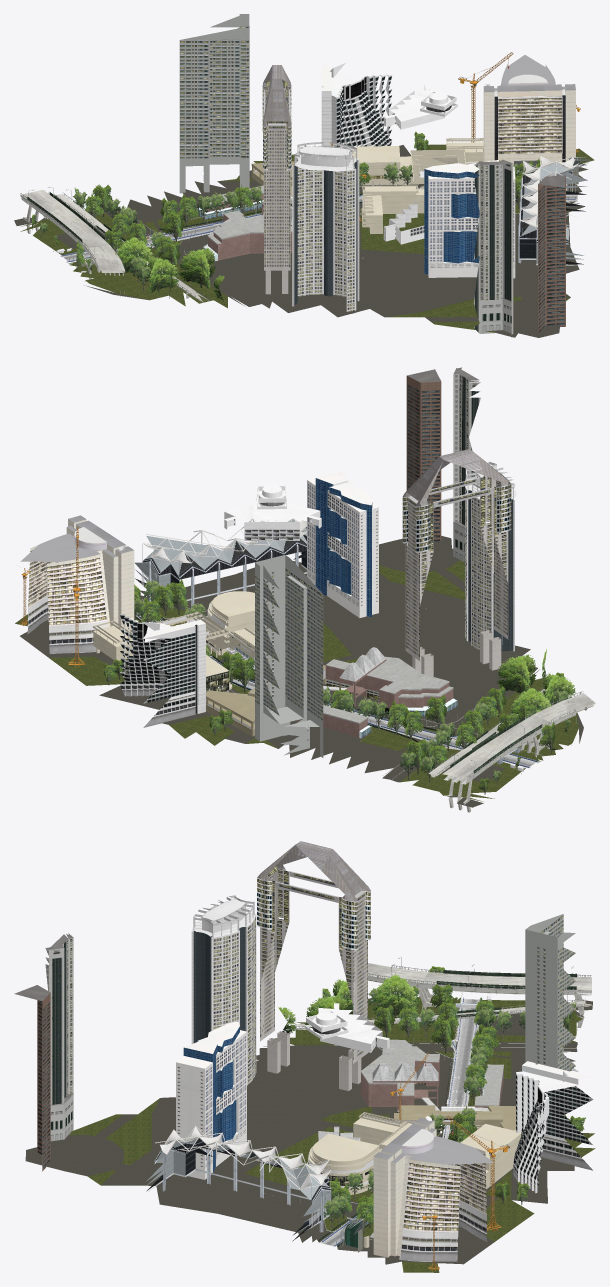
3 views of the same model, one above another, from view 1: azimuth 30°, elevation 25°; view 2: azimuth 150°, elevation 25°; view 3: azimuth 270°, elevation 25° (orthographic). The views are drawn at different scales.
Visible parts, largest first — view 1: m96_t03, m56_t03, m23_t03, m42_t03, m14_t03, m36_t03, m97_t03, m26_t03, m38_t03, m65_t03, m33_t03, m81_t03 (+7 smaller); view 2: m96_t03, m14_t03, m42_t03, m36_t03, m38_t03, m97_t03, m26_t03, m33_t03, m56_t03, m64_t03, m23_t03, m65_t03 (+9 smaller); view 3: m96_t03, m36_t03, m38_t03, m14_t03, m97_t03, m23_t03, m26_t03, m56_t03, m33_t03, m42_t03, m64_t03, m65_t03 (+11 smaller).
Part boxes in pixels (x1,y1,x2,y2): m96_t03: [14, 145, 588, 337]; m56_t03: [473, 159, 565, 337]; m23_t03: [292, 142, 359, 313]; m42_t03: [179, 14, 249, 193]; m14_t03: [32, 131, 550, 304]; m36_t03: [483, 55, 575, 177]; m97_t03: [20, 144, 594, 332]; m26_t03: [424, 160, 515, 278]; m38_t03: [262, 65, 291, 294]; m65_t03: [341, 138, 566, 233]; m33_t03: [321, 62, 392, 147]; m81_t03: [20, 187, 209, 302]; m96_t03: [20, 536, 583, 807]; m14_t03: [103, 579, 575, 794]; m42_t03: [255, 555, 323, 757]; m36_t03: [20, 515, 134, 653]; m38_t03: [402, 449, 511, 676]; m97_t03: [15, 560, 578, 801]; m26_t03: [307, 471, 378, 617]; m33_t03: [120, 614, 205, 727]; m56_t03: [406, 367, 480, 562]; m64_t03: [135, 518, 306, 607]; m23_t03: [465, 462, 516, 651]; m65_t03: [92, 591, 254, 699]; m96_t03: [25, 994, 592, 1264]; m36_t03: [369, 1116, 493, 1261]; m38_t03: [257, 841, 370, 1090]; m14_t03: [278, 966, 586, 1233]; m97_t03: [69, 996, 595, 1272]; m23_t03: [191, 895, 256, 1085]; m26_t03: [176, 1021, 246, 1179]; m56_t03: [14, 933, 73, 1171]; m33_t03: [513, 1061, 593, 1193]; m42_t03: [525, 914, 578, 1071]; m64_t03: [146, 1125, 331, 1241]; m65_t03: [308, 1112, 521, 1247].
Size of the model in its own units: 631 by 255 by 553.
37 materials, 36 textured.
